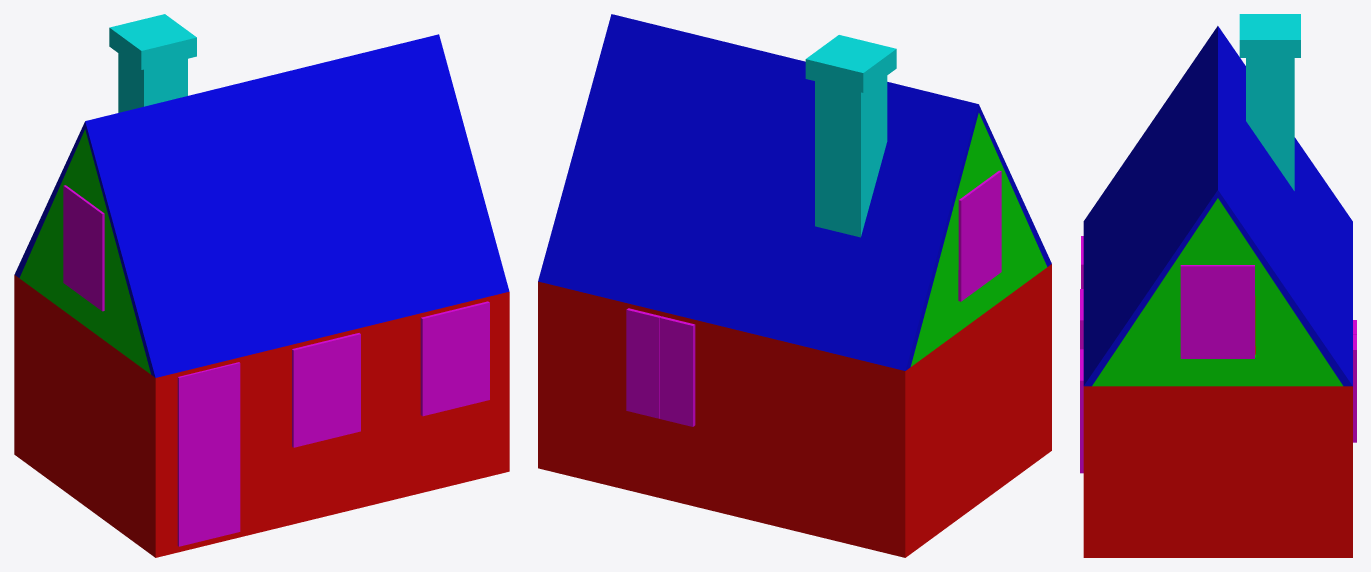
The model's file is Casa Media.fbx.
3 renders of one model, left to right at view 1: azimuth 30°, elevation 25°; view 2: azimuth 150°, elevation 25°; view 3: azimuth 270°, elevation 25°, orthographic. The views are drawn at different scales.
Visible parts, largest first — view 1: CMe_Casa, CM_Janela_3 (×2), CM_Janela_4 (×2), CM_Janela_1, CM_Janela_2; view 2: CMe_Casa, CM_Janela_6, CM_Janela_5, CM_Janela_4, CM_Janela_3; view 3: CMe_Casa, CM_Janela_4 (×2), CM_Janela_3, CM_Janela_5.
Part boxes in pixels (box(x1,y1,x2,y2)): CMe_Casa: box(14, 14, 509, 557); CM_Janela_3 (×2): box(83, 199, 456, 416); CM_Janela_4 (×2): box(63, 185, 489, 407); CM_Janela_1: box(292, 341, 327, 447); CM_Janela_2: box(326, 333, 360, 439); CMe_Casa: box(538, 14, 1051, 557); CM_Janela_6: box(660, 316, 695, 426); CM_Janela_5: box(626, 308, 661, 418); CM_Janela_4: box(958, 185, 981, 301); CM_Janela_3: box(979, 170, 1001, 286); CMe_Casa: box(1081, 14, 1352, 557); CM_Janela_4 (×2): box(1080, 265, 1254, 473); CM_Janela_3: box(1180, 265, 1217, 358); CM_Janela_5: box(1353, 335, 1356, 442).
Bounding box in the file's own units: 468 × 536 × 327.
